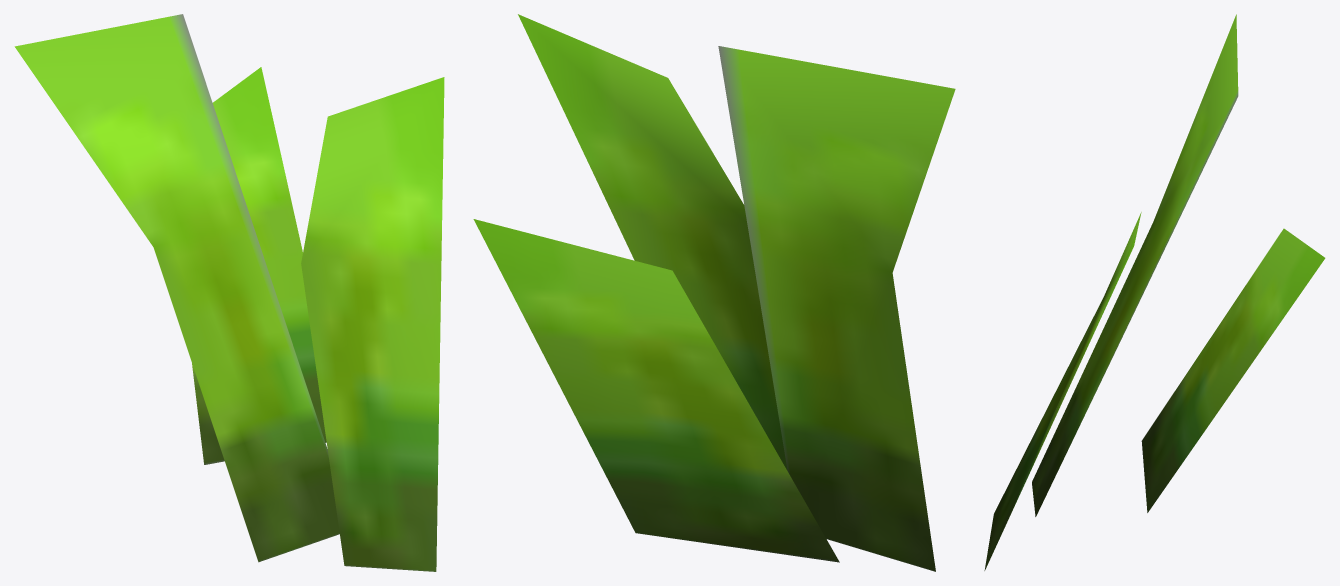
Rendered from fg_grassD.dae.
3 views of the same model, side by side, from view 1: azimuth 30°, elevation 25°; view 2: azimuth 150°, elevation 25°; view 3: azimuth 270°, elevation 25° (orthographic). The views are drawn at different scales.
Parts seen in each view (by area): view 1: fg_grassD; view 2: fg_grassD; view 3: fg_grassD.
Boxes of the visible parts, x1,y1,x2,y2 form: fg_grassD: (14,14,444,571); fg_grassD: (473,14,955,571); fg_grassD: (984,14,1325,570).
Bounding box in the file's own units: 14.73 × 18.52 × 13.13.
1 material, 1 textured.
